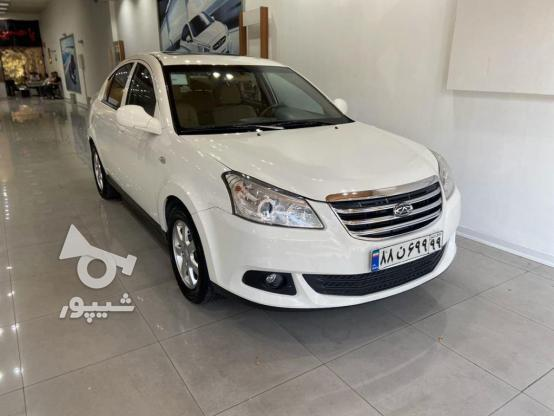car: (369, 230, 444, 272)
